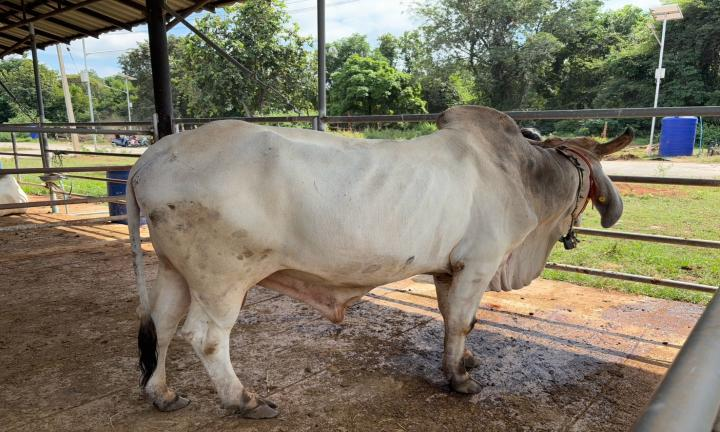Brahman: (126, 106, 633, 418)
